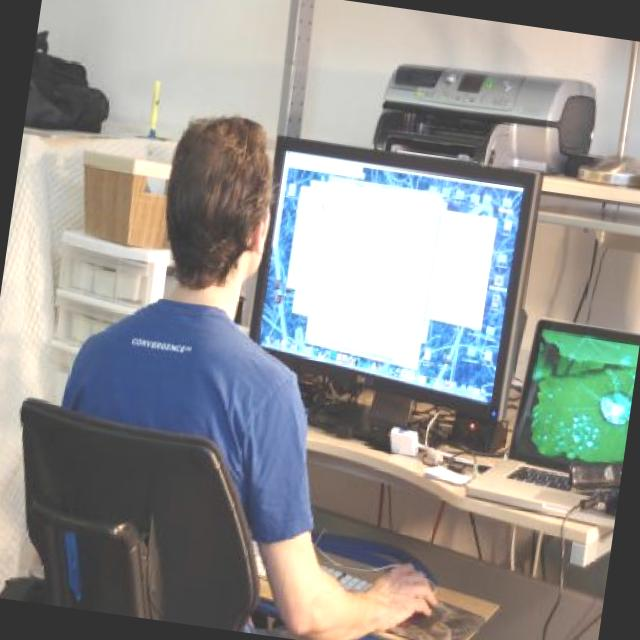Person: (91, 103, 472, 636)
